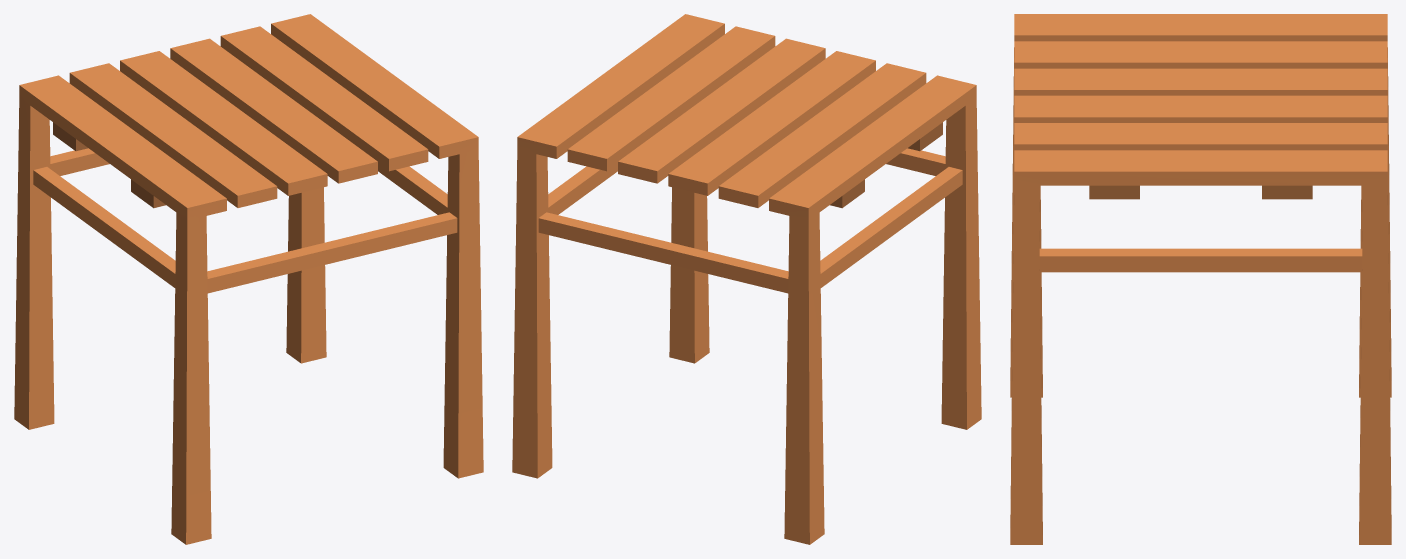
File: chair1.fbx
The picture shows the model from 3 angles, left to right: view 1: azimuth 30°, elevation 25°; view 2: azimuth 150°, elevation 25°; view 3: azimuth 270°, elevation 25°; orthographic projection. The views are drawn at different scales.
Parts seen in each view (by area): view 1: chair1; view 2: chair1; view 3: chair1.
Part boxes in pixels (x1,y1,x2,y2): chair1: (14,14,483,544); chair1: (512,14,981,544); chair1: (1010,14,1391,544).
Bounding box in the file's own units: 19.69 × 21.16 × 19.69.
